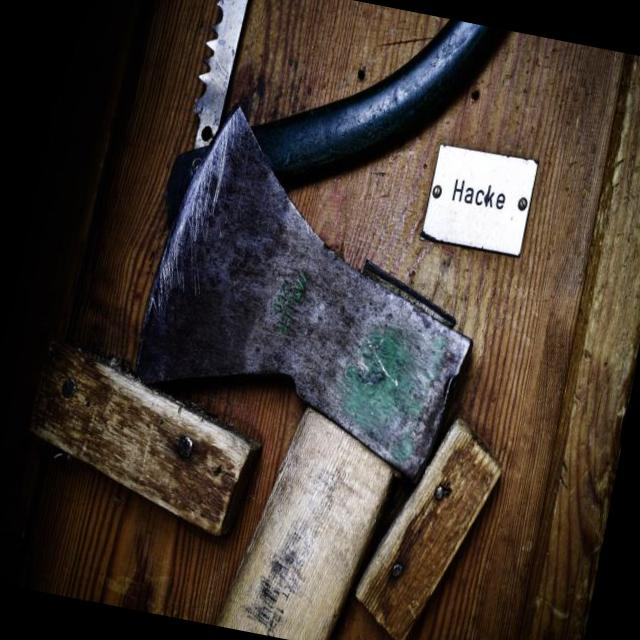Axe: (137, 109, 471, 640)
